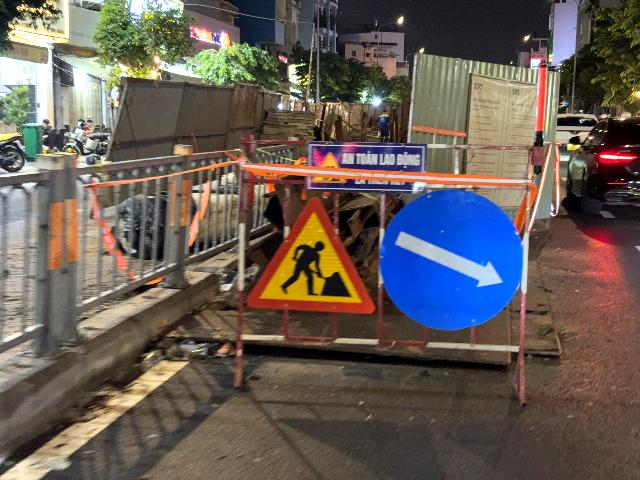cong-truong-dang-thi-cong: (246, 197, 375, 314)
huong-phai-di-vong-chuong-ngai-vat: (379, 189, 524, 330)
